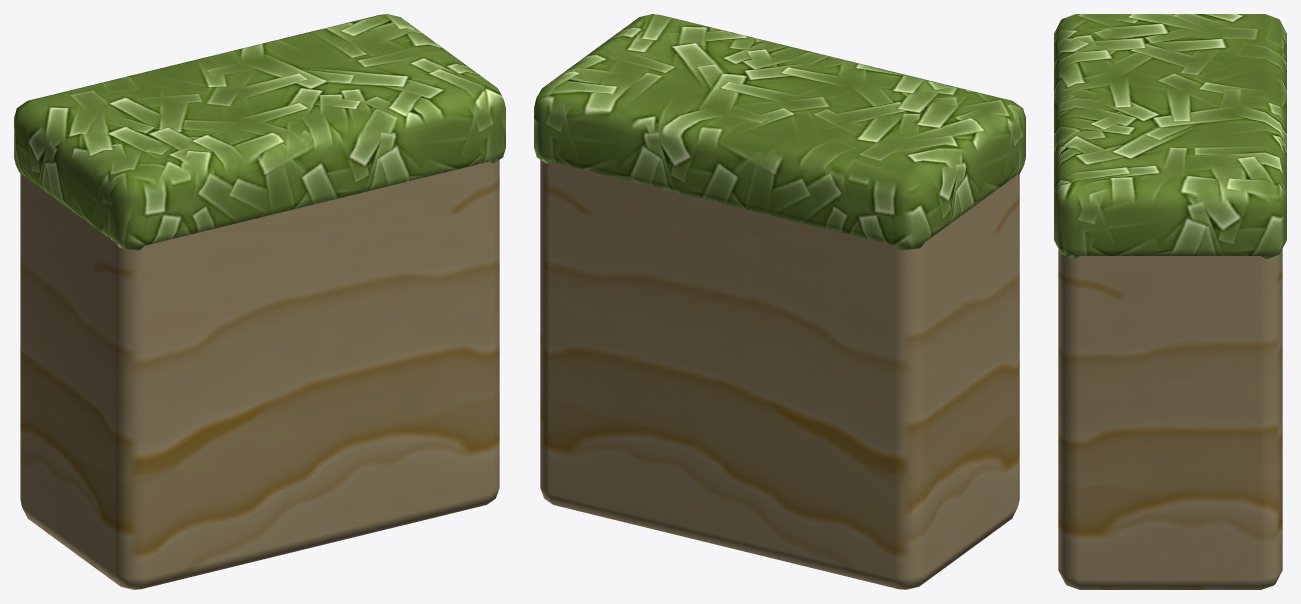
Rendered from SM_Platform_1m_Half_01_A.glb.
3 views of the same model, side by side, from view 1: azimuth 30°, elevation 25°; view 2: azimuth 150°, elevation 25°; view 3: azimuth 270°, elevation 25° (orthographic). The views are drawn at different scales.
Parts seen in each view (by area): view 1: SM_Platform_1m_Half_01_A; view 2: SM_Platform_1m_Half_01_A; view 3: SM_Platform_1m_Half_01_A.
Boxes of the visible parts, left/top/right/bottom form: SM_Platform_1m_Half_01_A: left=14, top=14, right=505, bottom=589; SM_Platform_1m_Half_01_A: left=534, top=14, right=1025, bottom=589; SM_Platform_1m_Half_01_A: left=1054, top=14, right=1286, bottom=589.
Size of the model in its own units: 1.02 by 1.05 by 0.54.
Materials: 2 (2 with a texture image).
